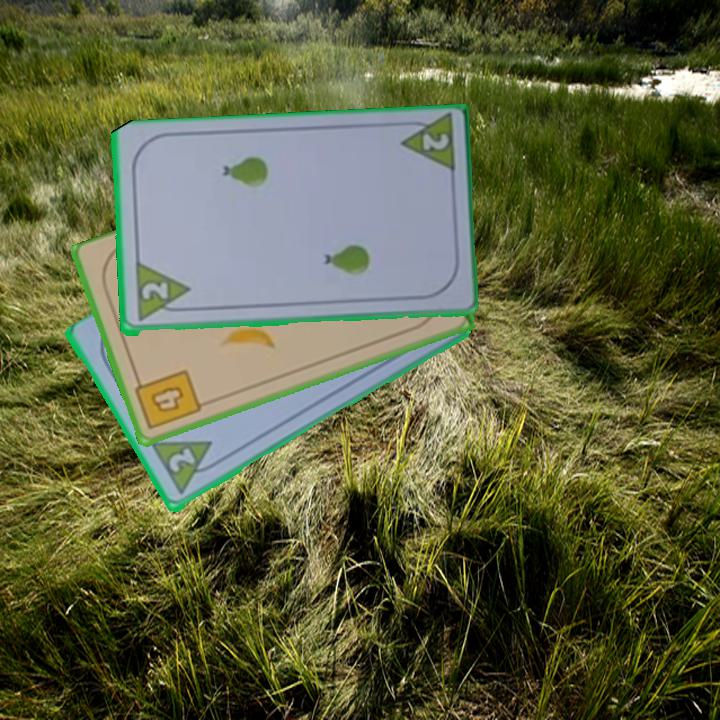2p: (147, 437, 225, 499), (394, 114, 458, 179), (131, 261, 193, 326)
4b: (131, 366, 204, 433)
